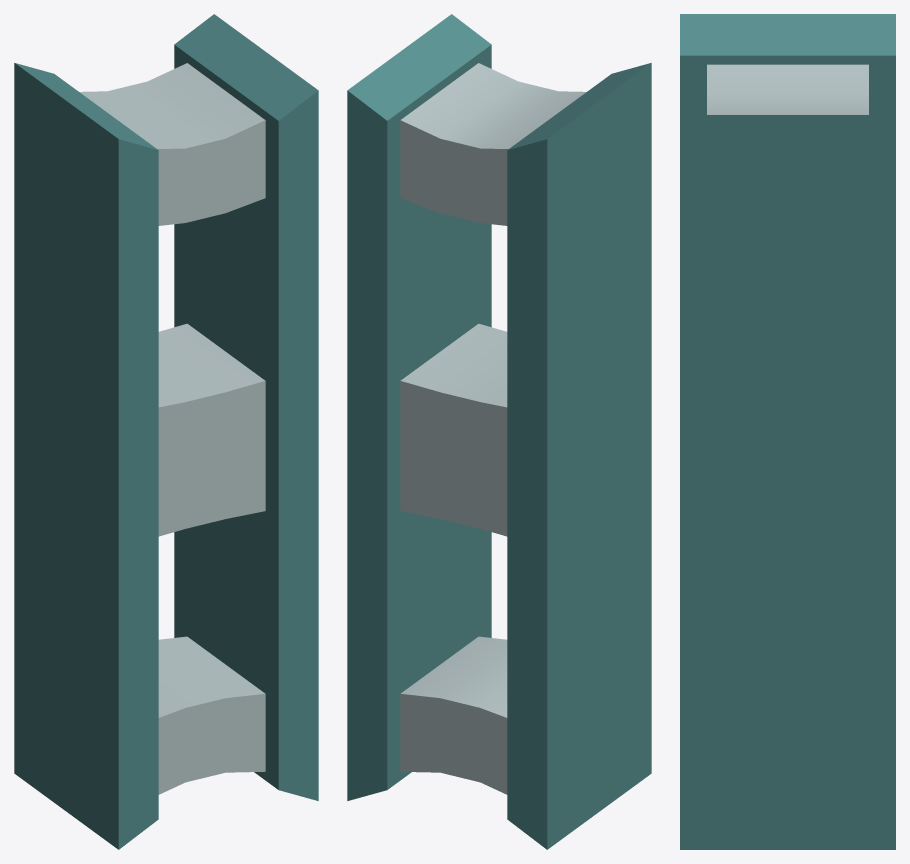
File: Strut_A.fbx
The picture shows the model from 3 angles, left to right: view 1: azimuth 30°, elevation 25°; view 2: azimuth 150°, elevation 25°; view 3: azimuth 270°, elevation 25°; orthographic projection. The views are drawn at different scales.
Visible parts, largest first — view 1: Strut; view 2: Strut; view 3: Strut.
Boxes of the visible parts, x1=… form: Strut: x1=14, y1=14, x2=318, y2=849; Strut: x1=347, y1=14, x2=651, y2=849; Strut: x1=680, y1=14, x2=895, y2=849.
Size of the model in its own units: 20 by 67.98 by 18.09.
